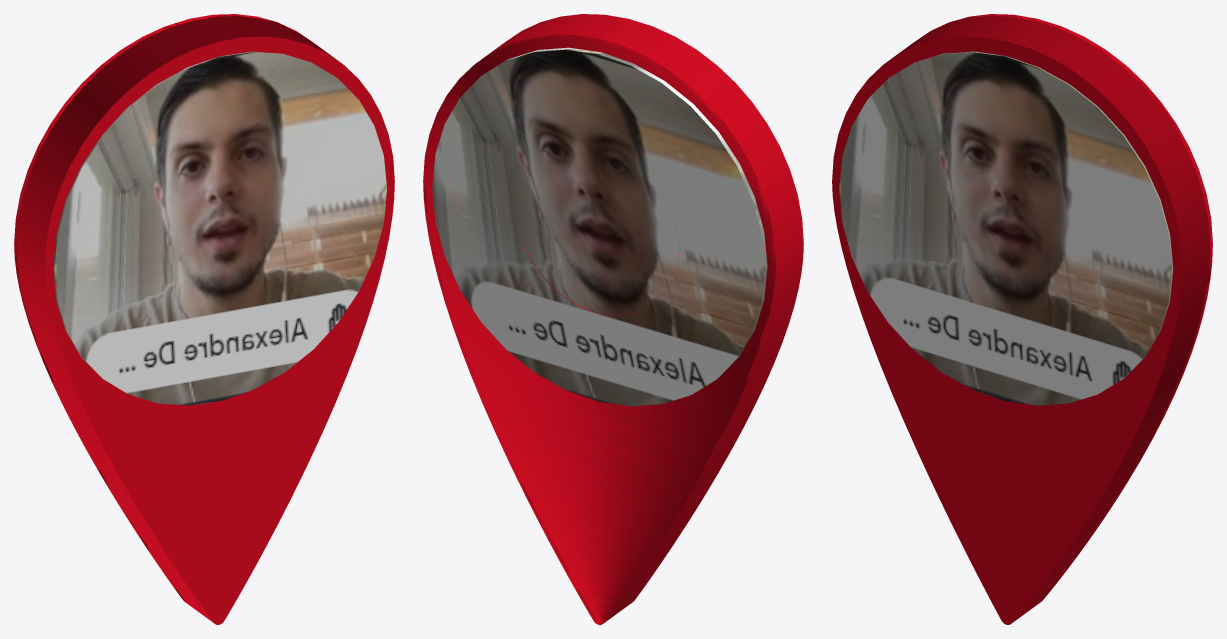
File: alex.glb
3 renders of one model, left to right at view 1: azimuth 30°, elevation 25°; view 2: azimuth 150°, elevation 25°; view 3: azimuth 330°, elevation 25°, orthographic.
Visible parts, largest first — view 1: Cylindre, Curve; view 2: Cylindre, Curve; view 3: Cylindre, Curve.
Part boxes in pixels (box(x1,y1,x2,y2)): Cylindre: box(53, 51, 386, 405); Curve: box(14, 14, 394, 624); Cylindre: box(432, 47, 767, 406); Curve: box(423, 14, 803, 624); Cylindre: box(839, 51, 1173, 405); Curve: box(832, 14, 1212, 624).
Size of the model in its own units: 0.2766 by 0.4404 by 0.0448.
2 materials, 1 textured.
